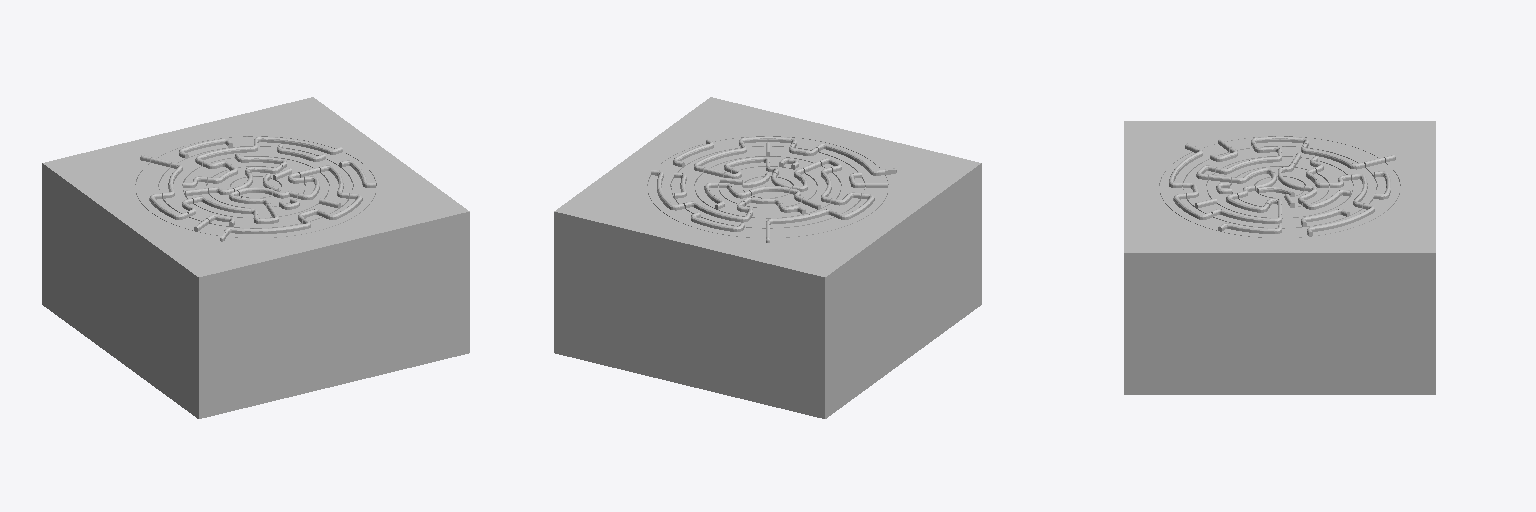
File: Scrigno2.obj
The picture shows the model from 3 angles: view 1: azimuth 30°, elevation 25°; view 2: azimuth 150°, elevation 25°; view 3: azimuth 270°, elevation 25°; orthographic projection.
Visible parts, largest first — view 1: Scrigno2_Base, Scrigno2_Coperchio4.002, Scrigno2_Ghiera2.5, Scrigno2_Ghiera2.4, Scrigno2_Ghiera2.3, Scrigno2_Ghiera2.2, Scrigno2_Ghiera2.1; view 2: Scrigno2_Base, Scrigno2_Coperchio4.002, Scrigno2_Ghiera2.5, Scrigno2_Ghiera2.4, Scrigno2_Ghiera2.3, Scrigno2_Ghiera2.2, Scrigno2_Ghiera2.1; view 3: Scrigno2_Base, Scrigno2_Coperchio4.002, Scrigno2_Ghiera2.5, Scrigno2_Ghiera2.4, Scrigno2_Ghiera2.3, Scrigno2_Ghiera2.2, Scrigno2_Ghiera2.1.
Boxes of the visible parts, x1,y1,x2,y2 form: Scrigno2_Base: [42, 196, 469, 418]; Scrigno2_Coperchio4.002: [42, 97, 469, 309]; Scrigno2_Ghiera2.5: [136, 136, 375, 237]; Scrigno2_Ghiera2.4: [159, 142, 352, 228]; Scrigno2_Ghiera2.3: [183, 153, 328, 218]; Scrigno2_Ghiera2.2: [207, 165, 304, 207]; Scrigno2_Ghiera2.1: [231, 173, 280, 197]; Scrigno2_Base: [554, 196, 981, 418]; Scrigno2_Coperchio4.002: [554, 97, 981, 309]; Scrigno2_Ghiera2.5: [648, 136, 887, 237]; Scrigno2_Ghiera2.4: [671, 142, 864, 228]; Scrigno2_Ghiera2.3: [695, 157, 840, 218]; Scrigno2_Ghiera2.2: [719, 162, 816, 207]; Scrigno2_Ghiera2.1: [743, 172, 792, 197]; Scrigno2_Base: [1124, 286, 1435, 394]; Scrigno2_Coperchio4.002: [1124, 121, 1435, 285]; Scrigno2_Ghiera2.5: [1160, 136, 1399, 237]; Scrigno2_Ghiera2.4: [1183, 143, 1376, 228]; Scrigno2_Ghiera2.3: [1207, 152, 1352, 218]; Scrigno2_Ghiera2.2: [1231, 163, 1328, 207]; Scrigno2_Ghiera2.1: [1255, 172, 1304, 197].
Size of the model in its own units: 50.7 by 26.13 by 50.7.